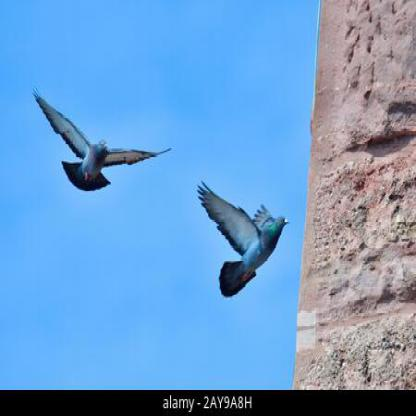Flying Rat: (35, 107, 178, 205), (185, 189, 294, 306)
